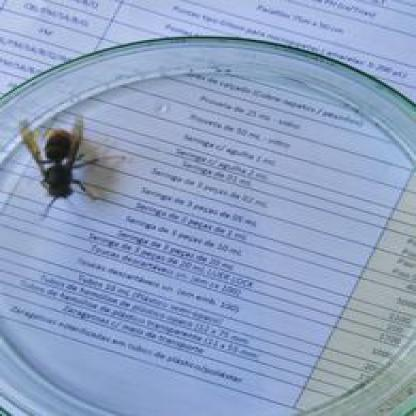Asian Hornet: (15, 109, 129, 219)
